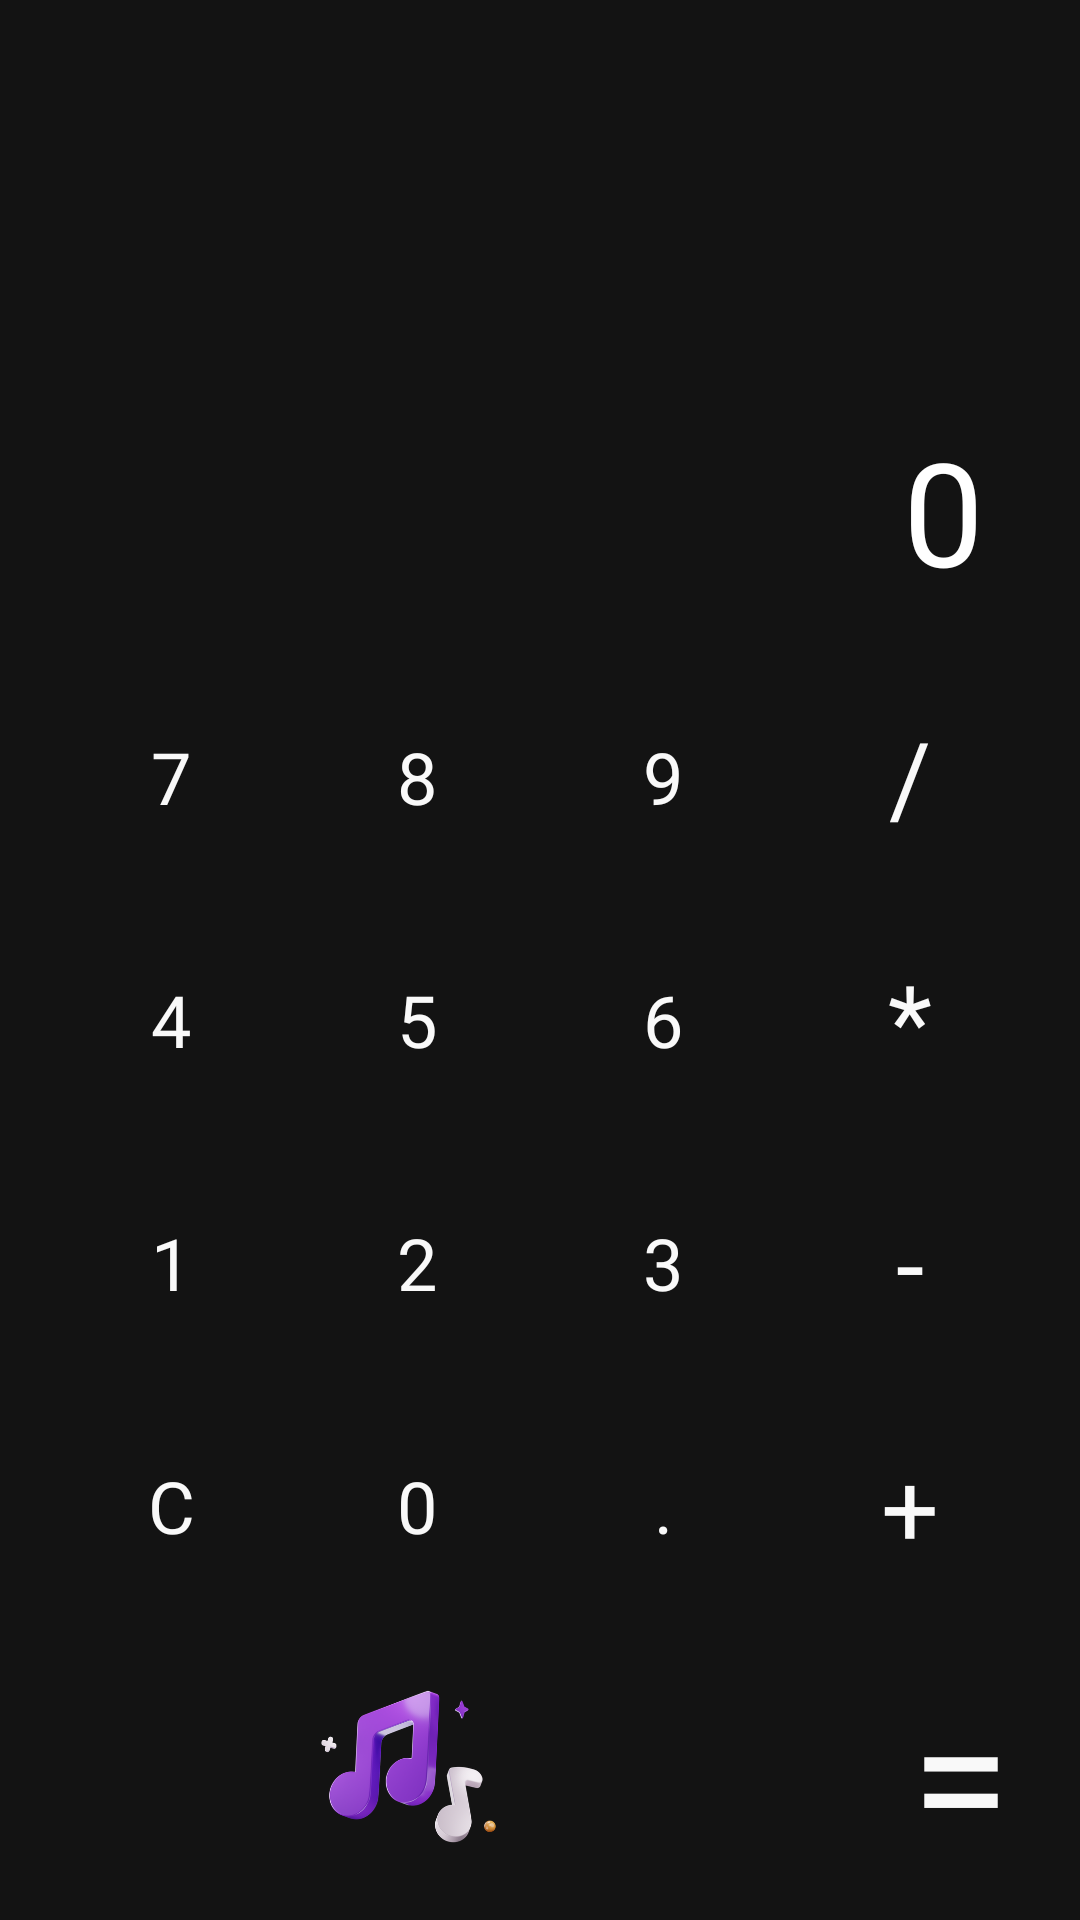

Icon click points for this 1080×1920 phone screenshot, format (x,y):
music: (408,1767)
